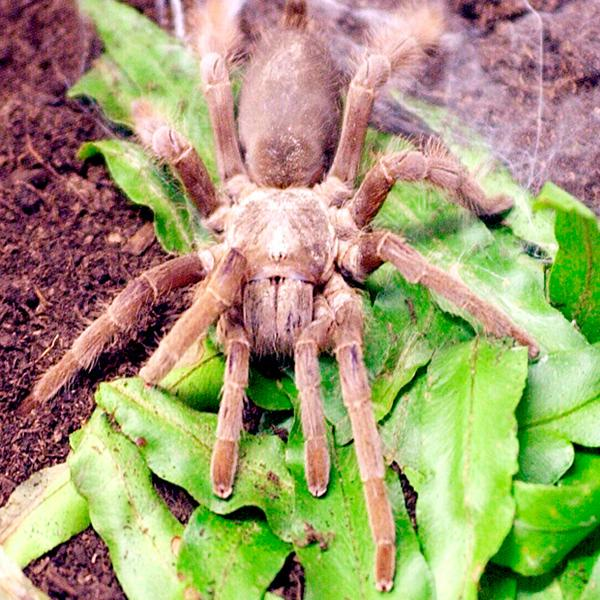Tarantula Spider: (46, 25, 519, 509)
